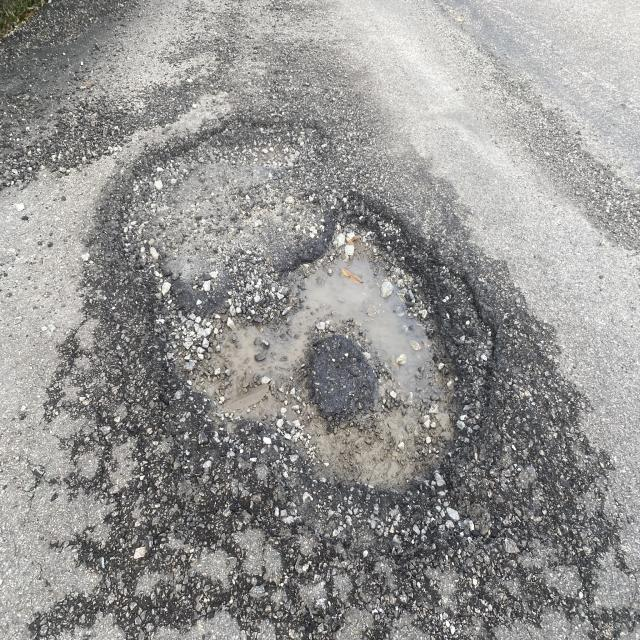pothole: (115, 179, 535, 531)
